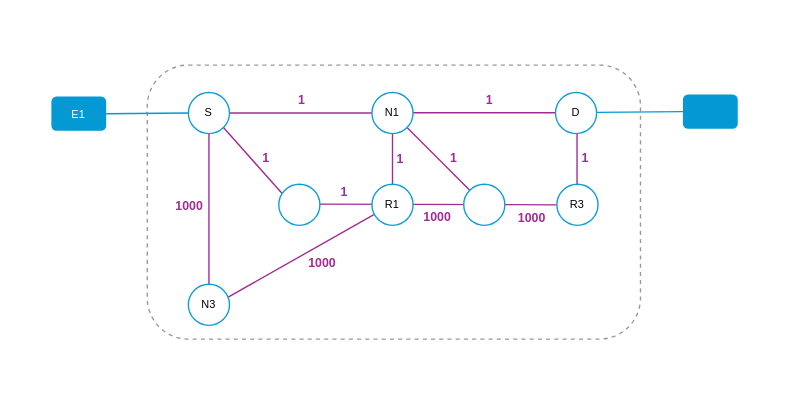
Some shapes in this 786 by 403 pixel diagram are drawn without their labels. The centre of each missing label's shape, as x and y in pixels:
E2: (x=709, y=111)
N2: (x=298, y=204)
R2: (x=483, y=204)
